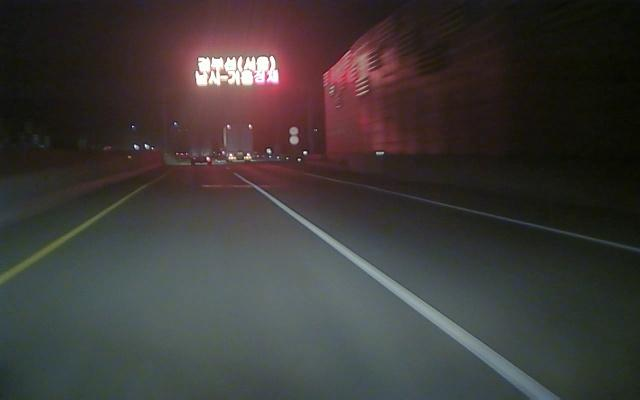lane: (239, 172, 561, 399), (343, 180, 639, 252), (1, 198, 126, 283)
